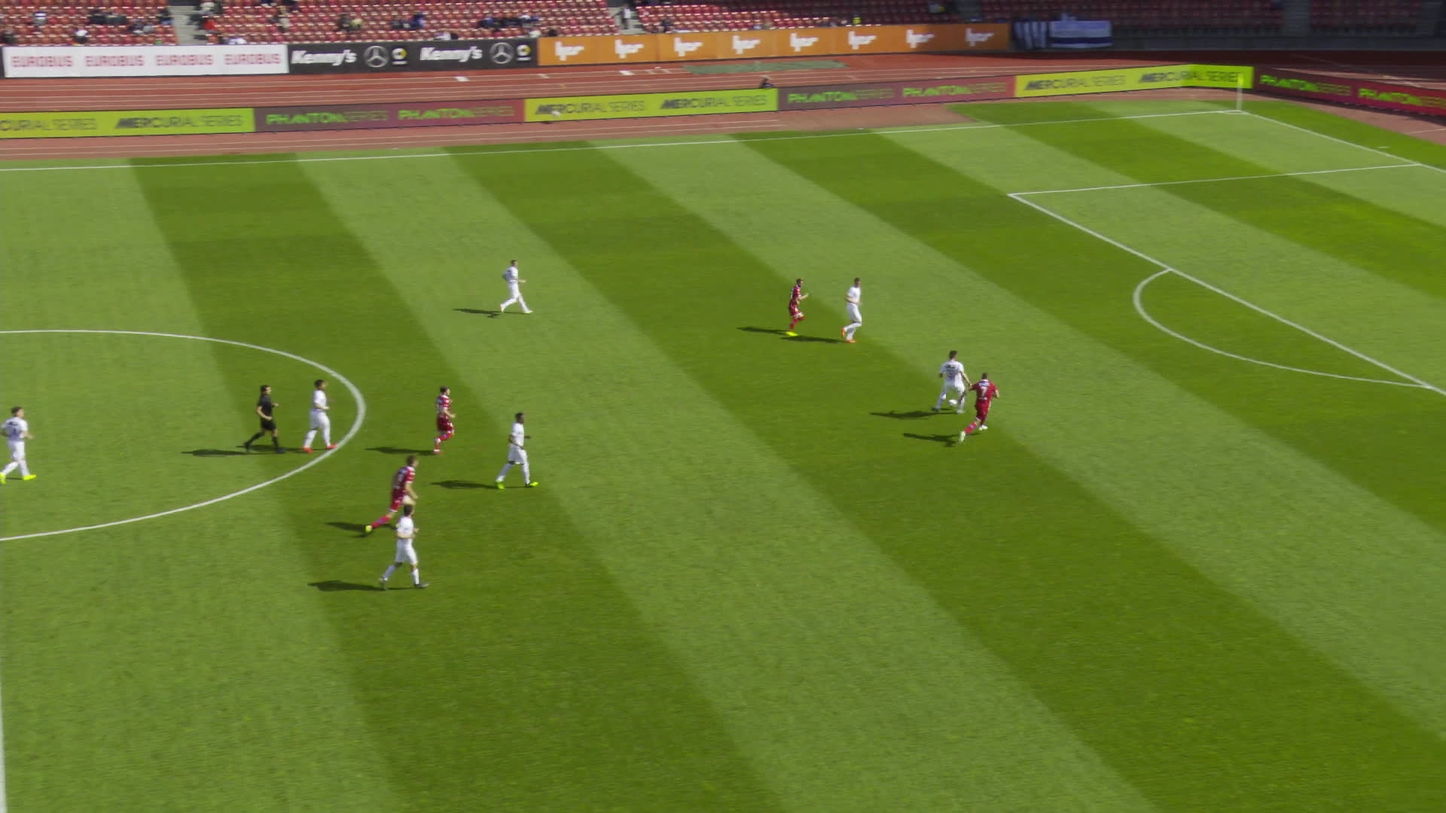player: (367, 455, 429, 534), (964, 373, 1007, 446), (932, 348, 974, 418), (392, 503, 426, 587), (7, 406, 40, 488), (505, 410, 537, 489), (308, 379, 340, 454), (835, 278, 871, 343), (773, 274, 811, 334), (426, 385, 458, 454), (503, 257, 531, 316)
referee: (247, 382, 286, 452)
